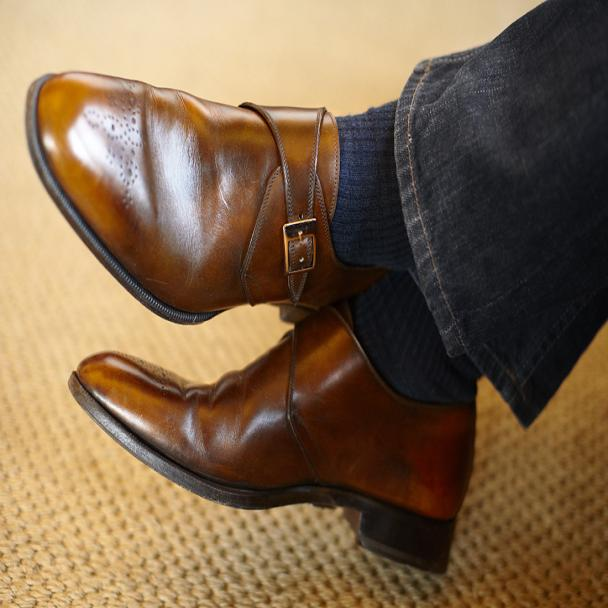Sepatu: (70, 324, 466, 575), (25, 65, 371, 312)
